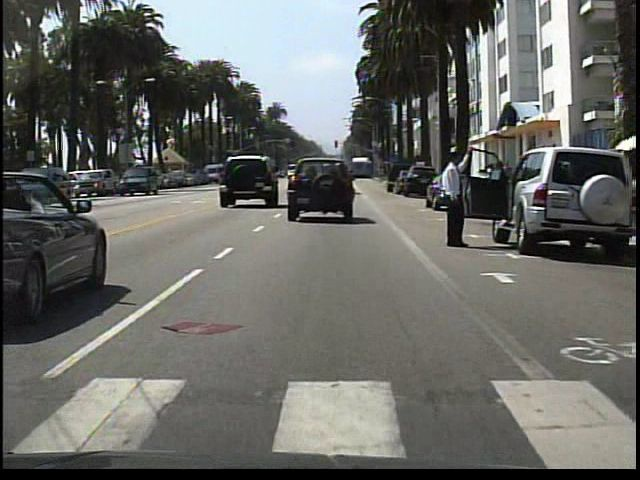person: (432, 142, 475, 257)
